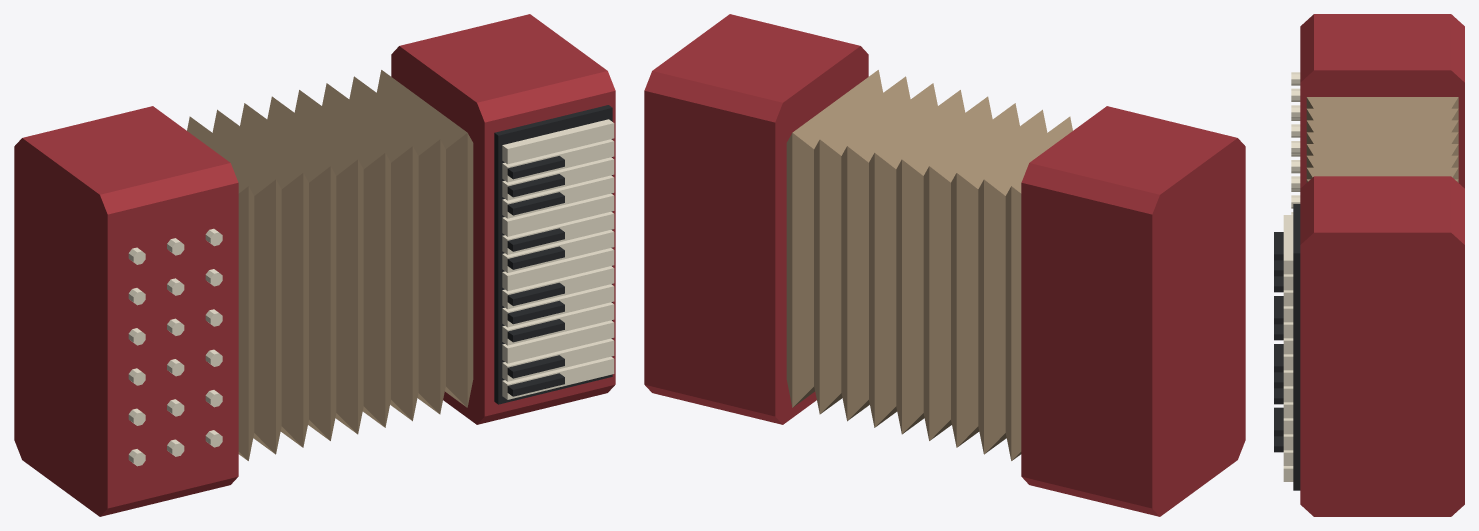
The picture shows the model from 3 angles, left to right: view 1: azimuth 30°, elevation 25°; view 2: azimuth 150°, elevation 25°; view 3: azimuth 270°, elevation 25°; orthographic projection. The views are drawn at different scales.
Visible parts, largest first — view 1: CompleteLeftButtonCase, ContinuousNineFoldBellows, CompleteRightKeyboardCase, CompleteKeyboardBacking, PaleLongKey_14, PaleLongKey_10, PaleLongKey_07, PaleLongKey_03, PaleLongKey_09, PaleLongKey_11, PaleLongKey_13, PaleLongKey_01 (+16 smaller); view 2: CompleteLeftButtonCase, ContinuousNineFoldBellows, CompleteRightKeyboardCase; view 3: CompleteRightKeyboardCase, CompleteLeftButtonCase, ContinuousNineFoldBellows, CompleteKeyboardBacking, PaleLongKey_14, RaisedDarkShortKey_02, RaisedDarkShortKey_06, RaisedDarkShortKey_09, RaisedDarkShortKey_13.
Part boxes in pixels (x1,y1,x2,y2): CompleteLeftButtonCase: [14, 106, 238, 516]; ContinuousNineFoldBellows: [187, 70, 473, 460]; CompleteRightKeyboardCase: [391, 14, 615, 424]; CompleteKeyboardBacking: [494, 105, 612, 404]; PaleLongKey_14: [502, 119, 614, 164]; PaleLongKey_10: [502, 193, 614, 236]; PaleLongKey_07: [502, 248, 614, 291]; PaleLongKey_03: [502, 320, 614, 363]; PaleLongKey_09: [502, 211, 614, 254]; PaleLongKey_11: [502, 175, 614, 218]; PaleLongKey_13: [502, 139, 614, 182]; PaleLongKey_01: [502, 356, 614, 399]; CompleteLeftButtonCase: [1021, 106, 1245, 516]; ContinuousNineFoldBellows: [786, 70, 1072, 460]; CompleteRightKeyboardCase: [644, 14, 868, 424]; CompleteRightKeyboardCase: [1300, 176, 1464, 516]; CompleteLeftButtonCase: [1300, 14, 1464, 188]; ContinuousNineFoldBellows: [1306, 97, 1458, 182]; CompleteKeyboardBacking: [1293, 204, 1300, 490]; PaleLongKey_14: [1283, 215, 1293, 274]; RaisedDarkShortKey_02: [1274, 407, 1283, 436]; RaisedDarkShortKey_06: [1274, 344, 1283, 372]; RaisedDarkShortKey_09: [1274, 296, 1283, 324]; RaisedDarkShortKey_13: [1274, 232, 1283, 260].
Bounding box in the file's own units: 1.32 × 0.8 × 0.487.
